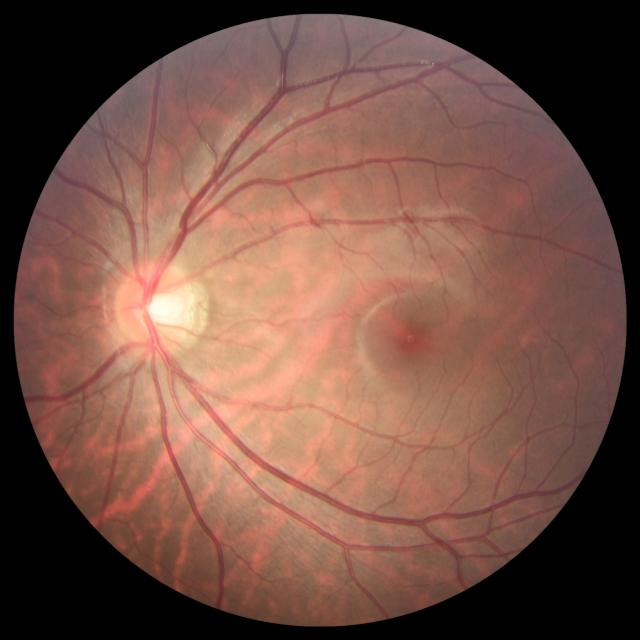OC: (140, 290, 181, 330)
OD: (113, 260, 196, 360)
